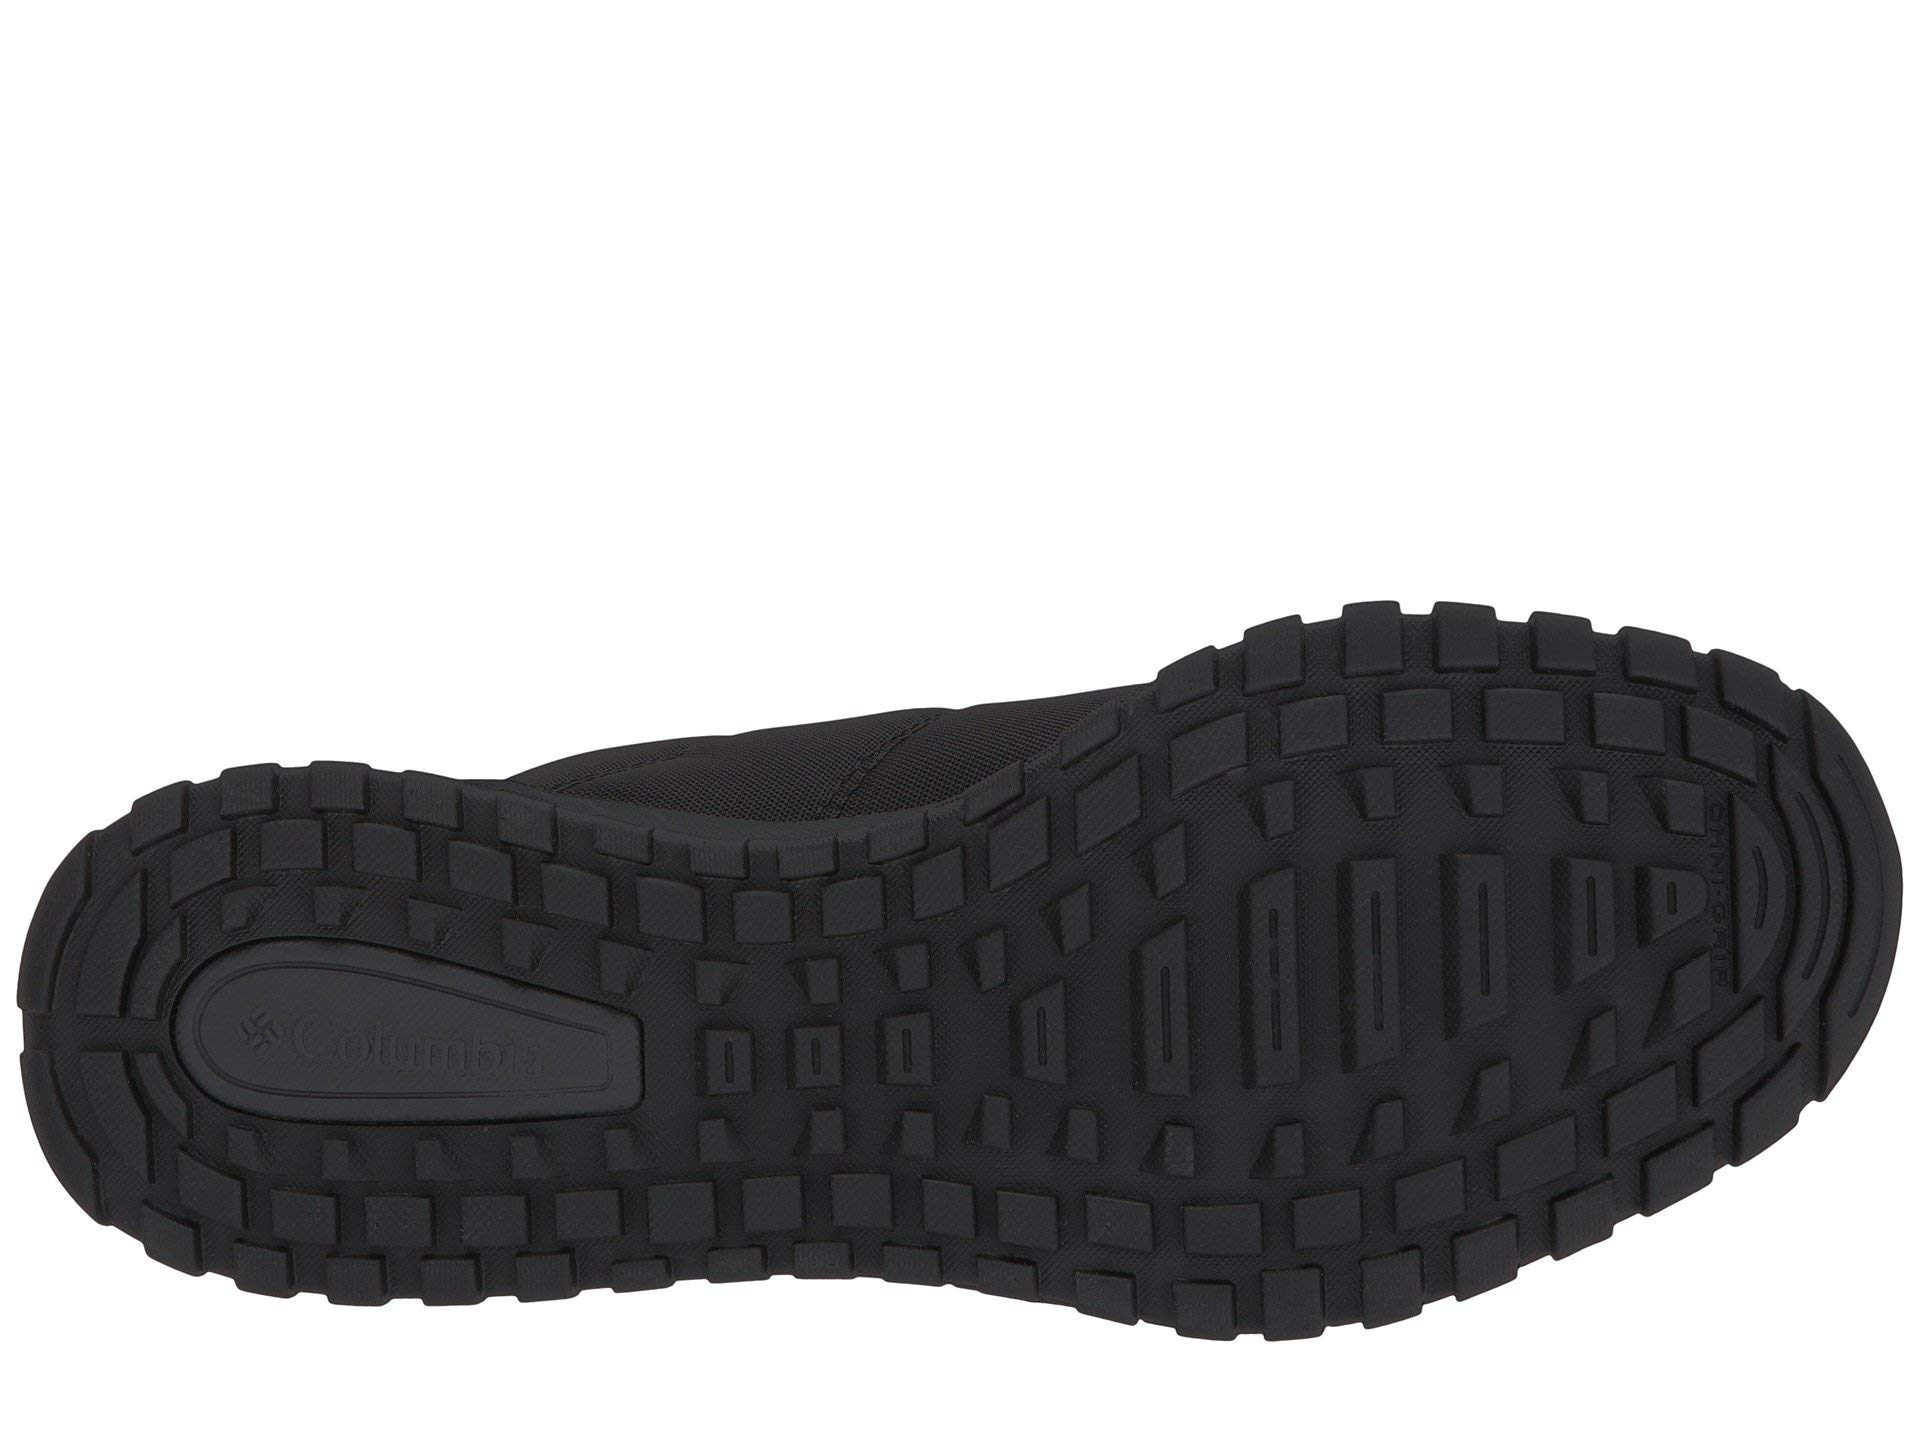quad: (658, 873, 1376, 1234), (1361, 647, 1736, 1078), (192, 1115, 649, 1308), (198, 771, 571, 944), (1404, 1131, 1695, 1255), (1060, 729, 1312, 846)
